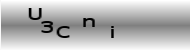3: (40, 20, 54, 33)
C: (56, 25, 71, 38)
U: (27, 7, 45, 21)
i: (109, 23, 115, 40)
n: (82, 16, 96, 28)
